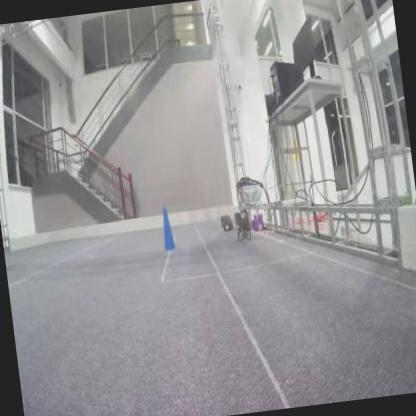cone: (158, 203, 175, 250)
